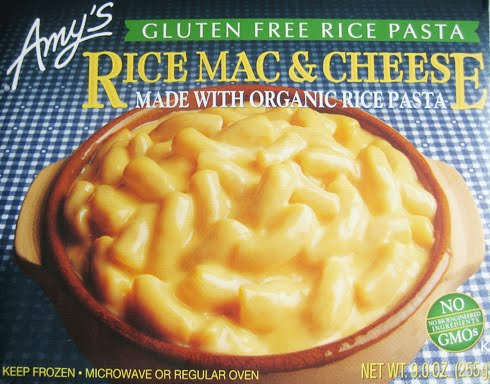macncheese: (76, 102, 434, 353)
